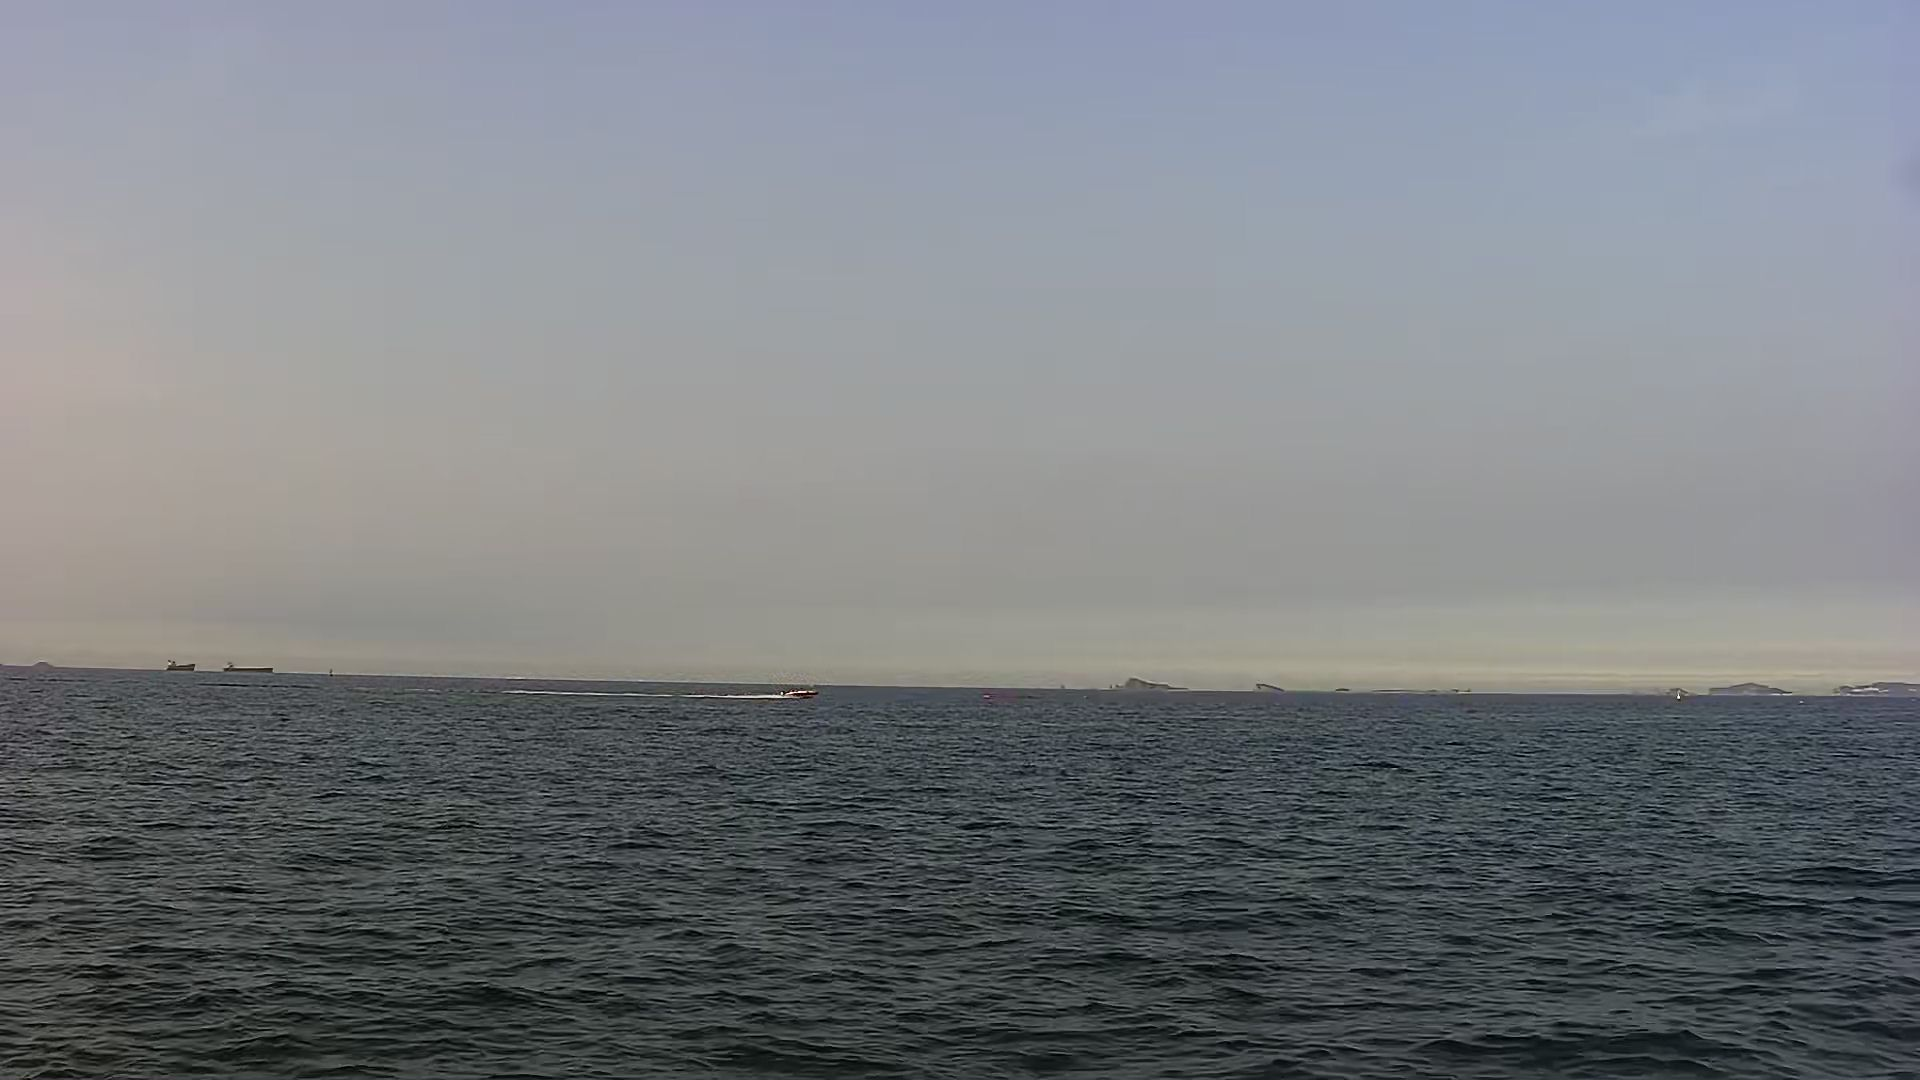boat: (773, 675, 818, 704)
